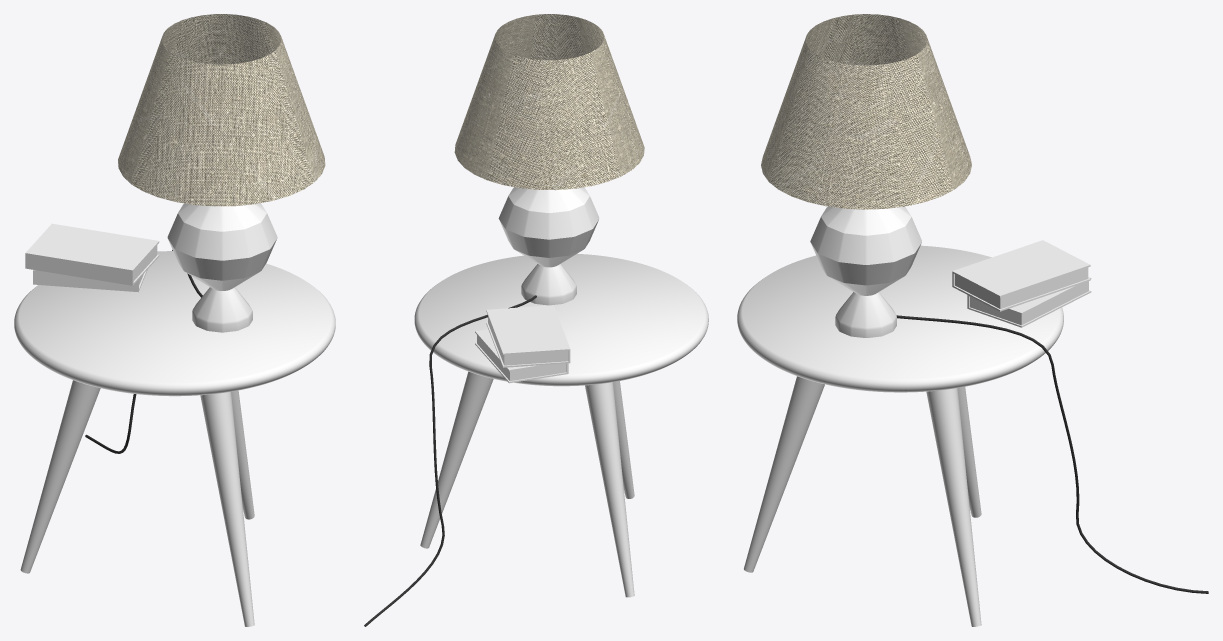
File: lamp.glb
3 renders of one model, left to right at view 1: azimuth 30°, elevation 25°; view 2: azimuth 150°, elevation 25°; view 3: azimuth 270°, elevation 25°, orthographic. The views are drawn at different scales.
Parts seen in each view (by area): view 1: table lamp crown, side table left, table lamp base, Cube.039, leg 1, leg 2, leg 3, Cube.038; view 2: table lamp crown, side table left, table lamp base, Cube.039, leg 2, leg 3, Cube.038, Table lamp AC cable.001, leg 1; view 3: table lamp crown, side table left, table lamp base, Cube.039, leg 3, leg 1, Cube.038, Table lamp AC cable.001, leg 2.
Part boxes in pixels (x1,y1,x2,y2): table lamp crown: (118, 14, 325, 206); side table left: (14, 251, 335, 396); table lamp base: (167, 203, 277, 332); Cube.039: (25, 223, 159, 285); leg 1: (200, 392, 254, 626); leg 2: (20, 380, 100, 573); leg 3: (231, 390, 254, 519); Cube.038: (33, 270, 147, 292); table lamp crown: (454, 14, 644, 190); side table left: (414, 253, 708, 386); table lamp base: (498, 187, 599, 305); Cube.039: (486, 305, 570, 367); leg 2: (585, 382, 634, 597); leg 3: (420, 371, 493, 548); Cube.038: (475, 329, 568, 383); Table lamp AC cable.001: (364, 295, 536, 626); leg 1: (613, 381, 634, 498); table lamp crown: (761, 14, 971, 209); side table left: (737, 245, 1063, 392); table lamp base: (810, 206, 921, 337); Cube.039: (952, 240, 1090, 311); leg 3: (926, 388, 981, 626); leg 1: (744, 376, 824, 572); Cube.038: (967, 277, 1091, 327); Table lamp AC cable.001: (896, 315, 1208, 593); leg 2: (957, 387, 981, 517).
Size of the model in its own units: 0.5377 by 0.9926 by 0.776.
Materials: 6 (1 with a texture image).
